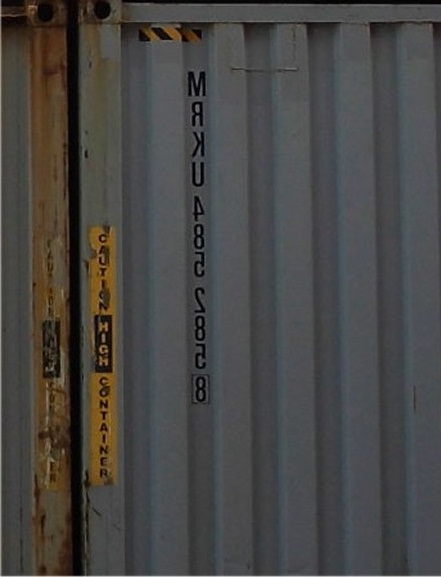container_no_door: (77, 2, 440, 574)
